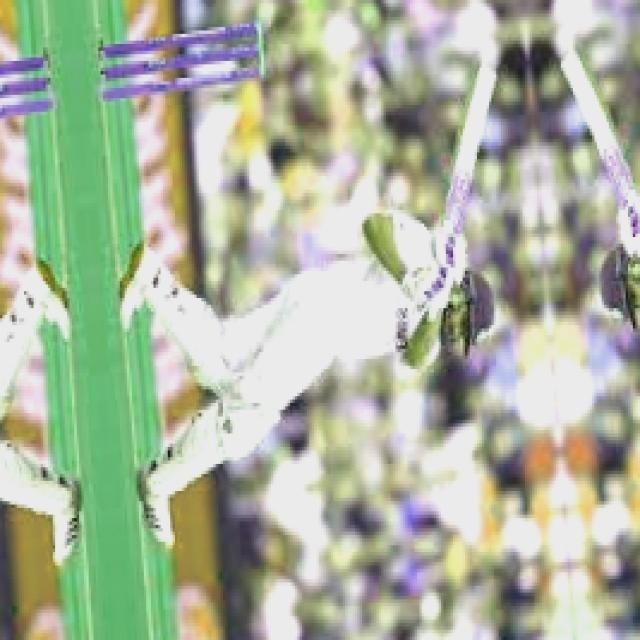toe: (478, 60, 500, 86)
